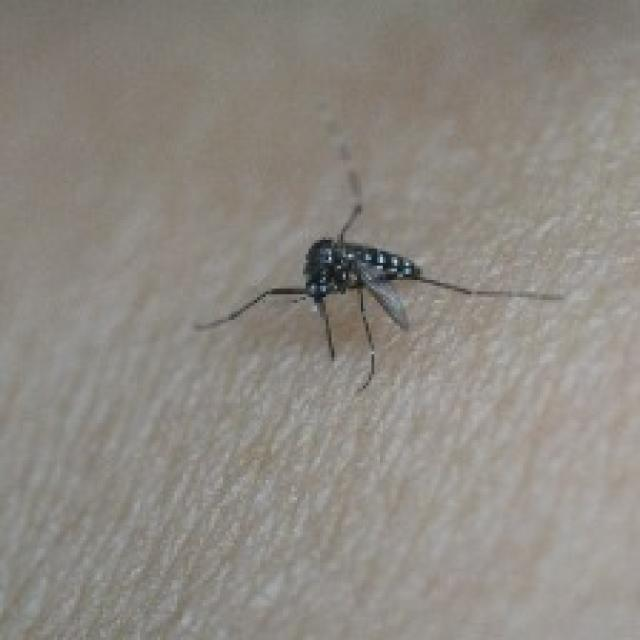aedes: (187, 158, 570, 411)
